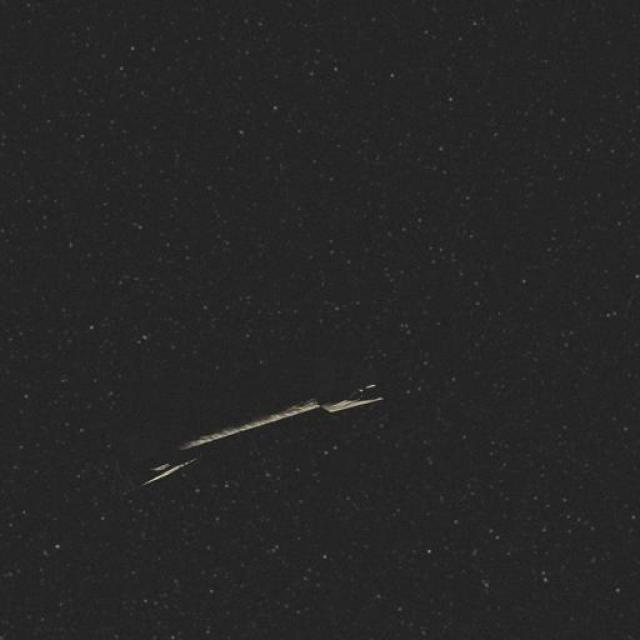xmm_newton: (47, 348, 429, 562)
